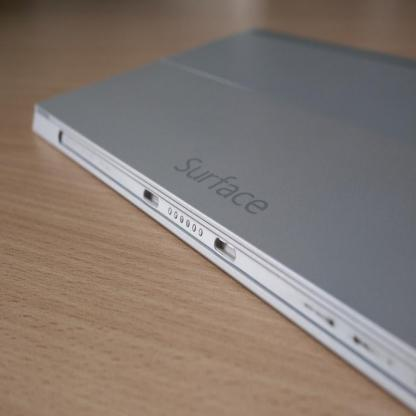board: (33, 37, 416, 416)
